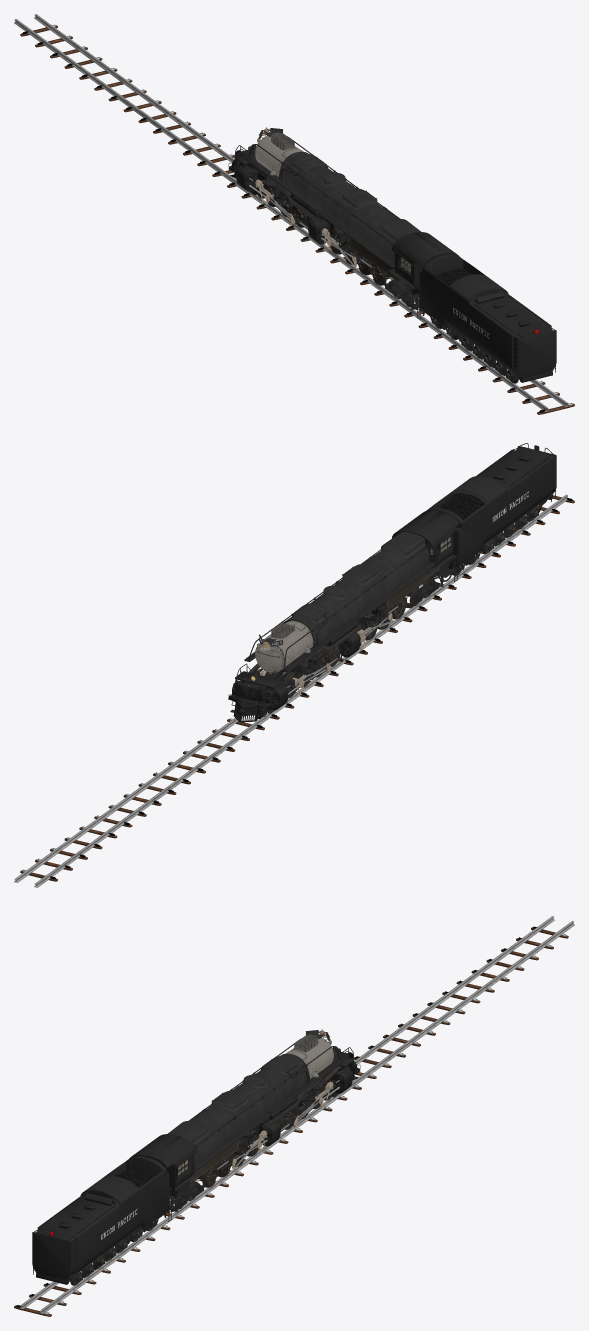
The model's file is bigboy-4014.glb.
3 views of the same model, one above another, from view 1: azimuth 30°, elevation 25°; view 2: azimuth 150°, elevation 25°; view 3: azimuth 330°, elevation 25° (orthographic).
Visible parts, largest first — view 1: Object_2_low_Mat_Four_0, Track_low_Track_0, Object_7_low_Mat_Three_0, Object_4_low_Mat_Seven_0, Object_14_low_Mat_Two_0, Object_14_low_Mat_Six_0, Object_14_low_Mat_One_0, Object_7_low_Mat_Five_0; view 2: Object_7_low_Mat_Three_0, Track_low_Track_0, Object_2_low_Mat_Four_0, Object_14_low_Mat_Six_0, Object_14_low_Mat_Two_0, Object_4_low_Mat_Seven_0, Object_7_low_Mat_Five_0, Object_14_low_Mat_One_0; view 3: Object_2_low_Mat_Four_0, Track_low_Track_0, Object_7_low_Mat_Three_0, Object_4_low_Mat_Seven_0, Object_14_low_Mat_Two_0, Object_14_low_Mat_Six_0, Object_14_low_Mat_One_0, Object_7_low_Mat_Five_0.
Part boxes in pixels (bbox=[...]): Object_2_low_Mat_Four_0: bbox=[418, 254, 556, 382]; Track_low_Track_0: bbox=[14, 14, 574, 414]; Object_7_low_Mat_Three_0: bbox=[255, 127, 420, 263]; Object_4_low_Mat_Seven_0: bbox=[236, 163, 459, 294]; Object_14_low_Mat_Two_0: bbox=[249, 178, 555, 381]; Object_14_low_Mat_Six_0: bbox=[228, 136, 418, 290]; Object_14_low_Mat_One_0: bbox=[256, 183, 518, 383]; Object_7_low_Mat_Five_0: bbox=[228, 144, 397, 277]; Object_7_low_Mat_Three_0: bbox=[255, 532, 429, 673]; Track_low_Track_0: bbox=[14, 494, 574, 887]; Object_2_low_Mat_Four_0: bbox=[426, 446, 556, 569]; Object_14_low_Mat_Six_0: bbox=[228, 545, 439, 722]; Object_14_low_Mat_Two_0: bbox=[268, 443, 555, 694]; Object_4_low_Mat_Seven_0: bbox=[237, 510, 459, 710]; Object_7_low_Mat_Five_0: bbox=[228, 567, 439, 718]; Object_14_low_Mat_One_0: bbox=[249, 507, 538, 716]; Object_2_low_Mat_Four_0: bbox=[32, 1156, 170, 1284]; Track_low_Track_0: bbox=[14, 916, 574, 1316]; Object_7_low_Mat_Three_0: bbox=[168, 1029, 333, 1165]; Object_4_low_Mat_Seven_0: bbox=[129, 1065, 352, 1196]; Object_14_low_Mat_Two_0: bbox=[33, 1080, 339, 1283]; Object_14_low_Mat_Six_0: bbox=[170, 1039, 360, 1192]; Object_14_low_Mat_One_0: bbox=[70, 1066, 343, 1285]; Object_7_low_Mat_Five_0: bbox=[191, 1046, 360, 1179].
Bounding box in the file's own units: 3.48 × 5.3 × 71.35.
Materials: 8 (8 with a texture image).
